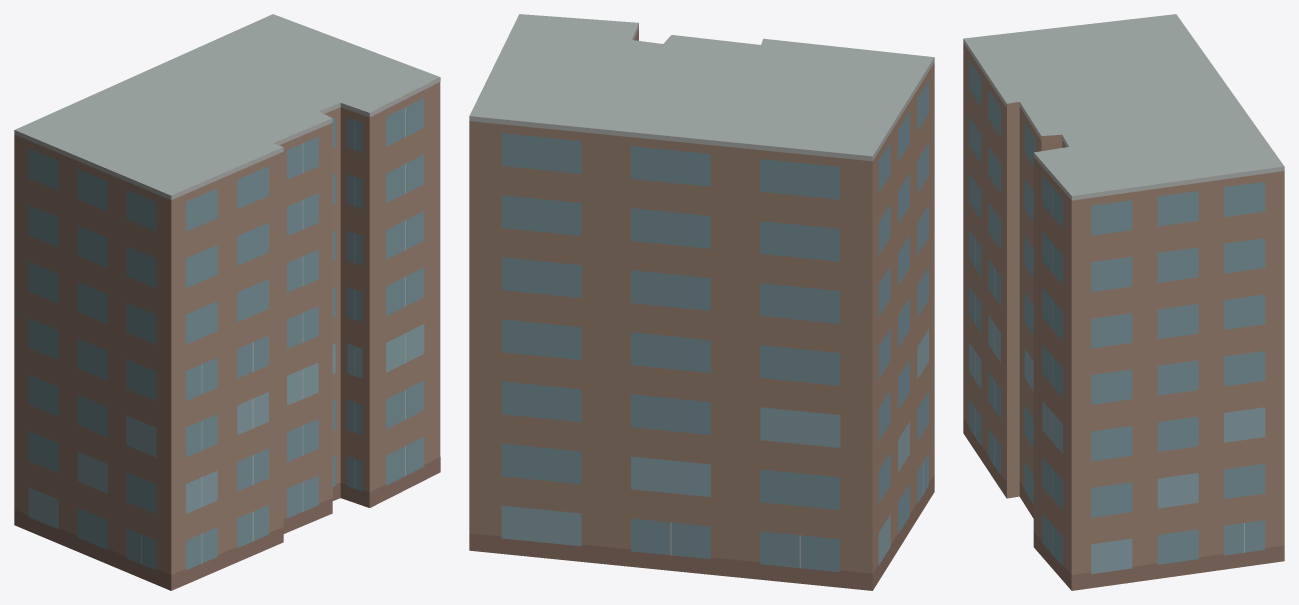
The model's file is survey-upis-32925446.glb.
3 renders of one model, left to right at view 1: azimuth 30°, elevation 25°; view 2: azimuth 150°, elevation 25°; view 3: azimuth 270°, elevation 25°, orthographic. The views are drawn at different scales.
Parts seen in each view (by area): view 1: survey-upis-32925446.tmp; view 2: survey-upis-32925446.tmp; view 3: survey-upis-32925446.tmp.
Boxes of the visible parts, box(x1,y1,x2,y2) form: survey-upis-32925446.tmp: box(14, 14, 440, 590); survey-upis-32925446.tmp: box(469, 14, 934, 590); survey-upis-32925446.tmp: box(963, 14, 1284, 590).
Bounding box in the file's own units: 21.14 × 21.35 × 15.75.
